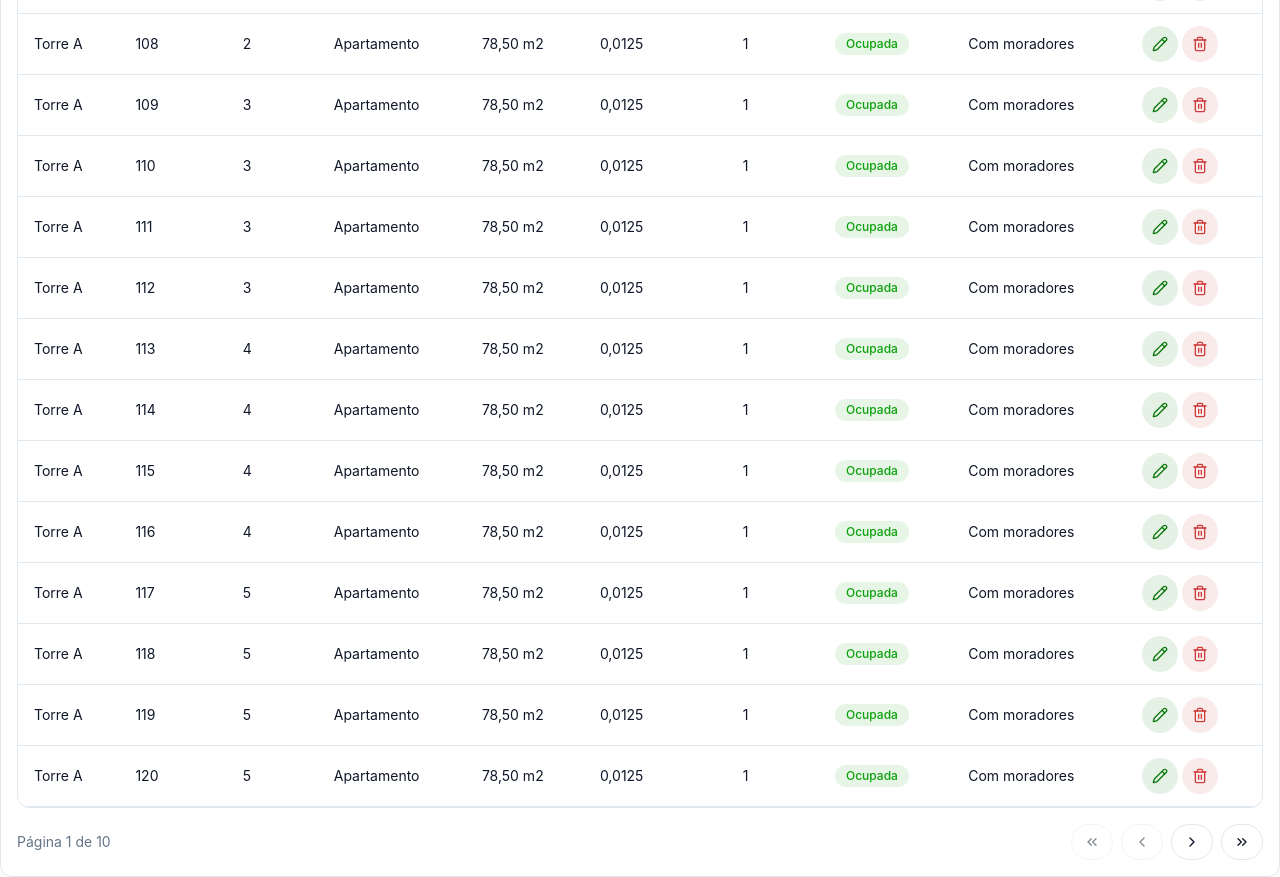
Test: Listagem de unidades › IT-049: um condomínio de 200 unidades pagina sem perder linhas
(page scrolled)
Expected: the text "Página 1 de 10" is shown, x1=17 y1=832 x2=111 y2=852
Step 1. Click the button named "Ir para última página" → click(1242, 842), box x1=1221 y1=824 x2=1263 y2=860
(page scrolled)
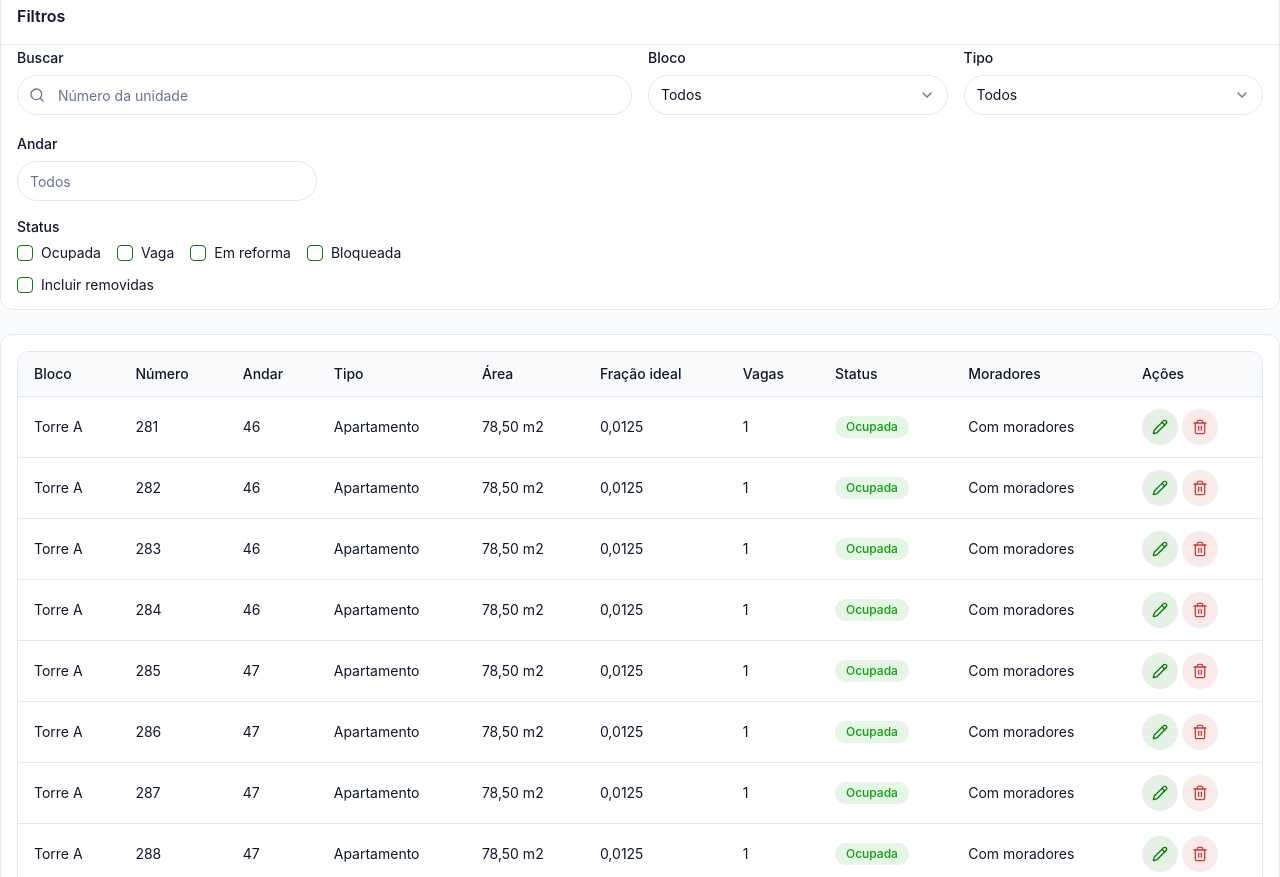
Expected: the text "281" is shown, x1=135 y1=417 x2=158 y2=437
